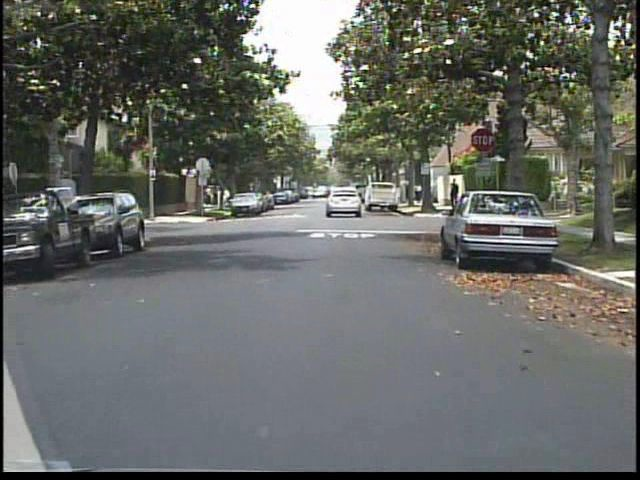person: (446, 177, 463, 214), (415, 178, 426, 205)
